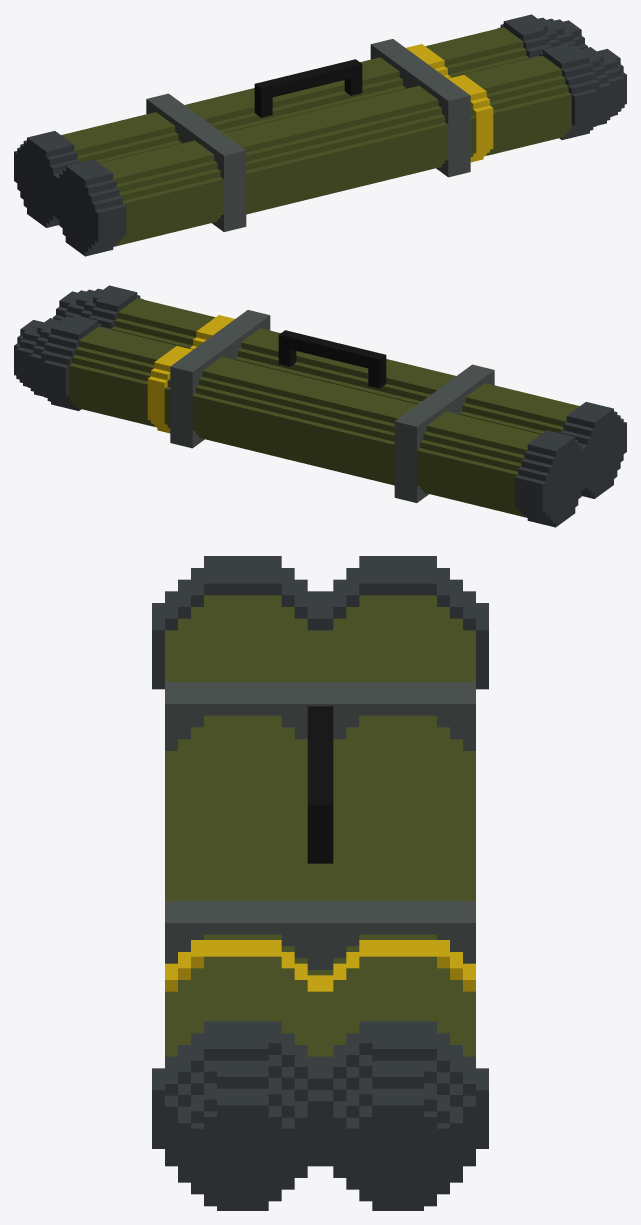
File: ammunition_can_carlgustav.glb
The picture shows the model from 3 angles, top to bottom: view 1: azimuth 30°, elevation 25°; view 2: azimuth 150°, elevation 25°; view 3: azimuth 270°, elevation 25°; orthographic projection. The views are drawn at different scales.
Parts seen in each view (by area): view 1: ammunition_can_carlgustav:compound; view 2: ammunition_can_carlgustav:compound; view 3: ammunition_can_carlgustav:compound.
Boxes of the visible parts, box(x1,y1,x2,y2) form: ammunition_can_carlgustav:compound: box(14, 14, 626, 256); ammunition_can_carlgustav:compound: box(14, 285, 626, 527); ammunition_can_carlgustav:compound: box(152, 556, 488, 1210).
Size of the model in its own units: 0.96 by 0.17 by 0.26.
